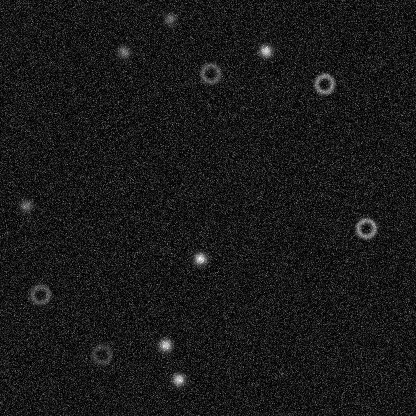Ring: (353, 216, 377, 240), (312, 71, 336, 95), (28, 282, 52, 306), (89, 342, 113, 366), (198, 61, 222, 85)
Spot: (170, 371, 186, 387), (257, 42, 273, 58), (115, 43, 131, 59), (157, 336, 173, 352), (191, 250, 207, 266), (161, 10, 177, 26), (17, 197, 33, 213)
